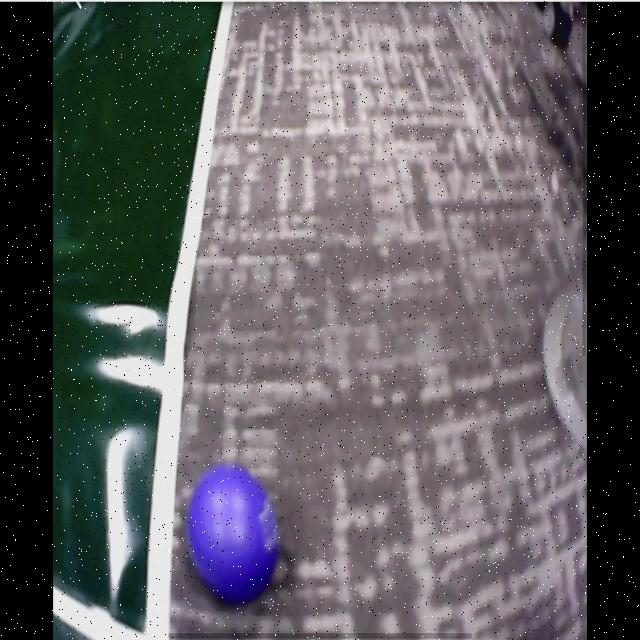ball: (188, 463, 279, 604)
